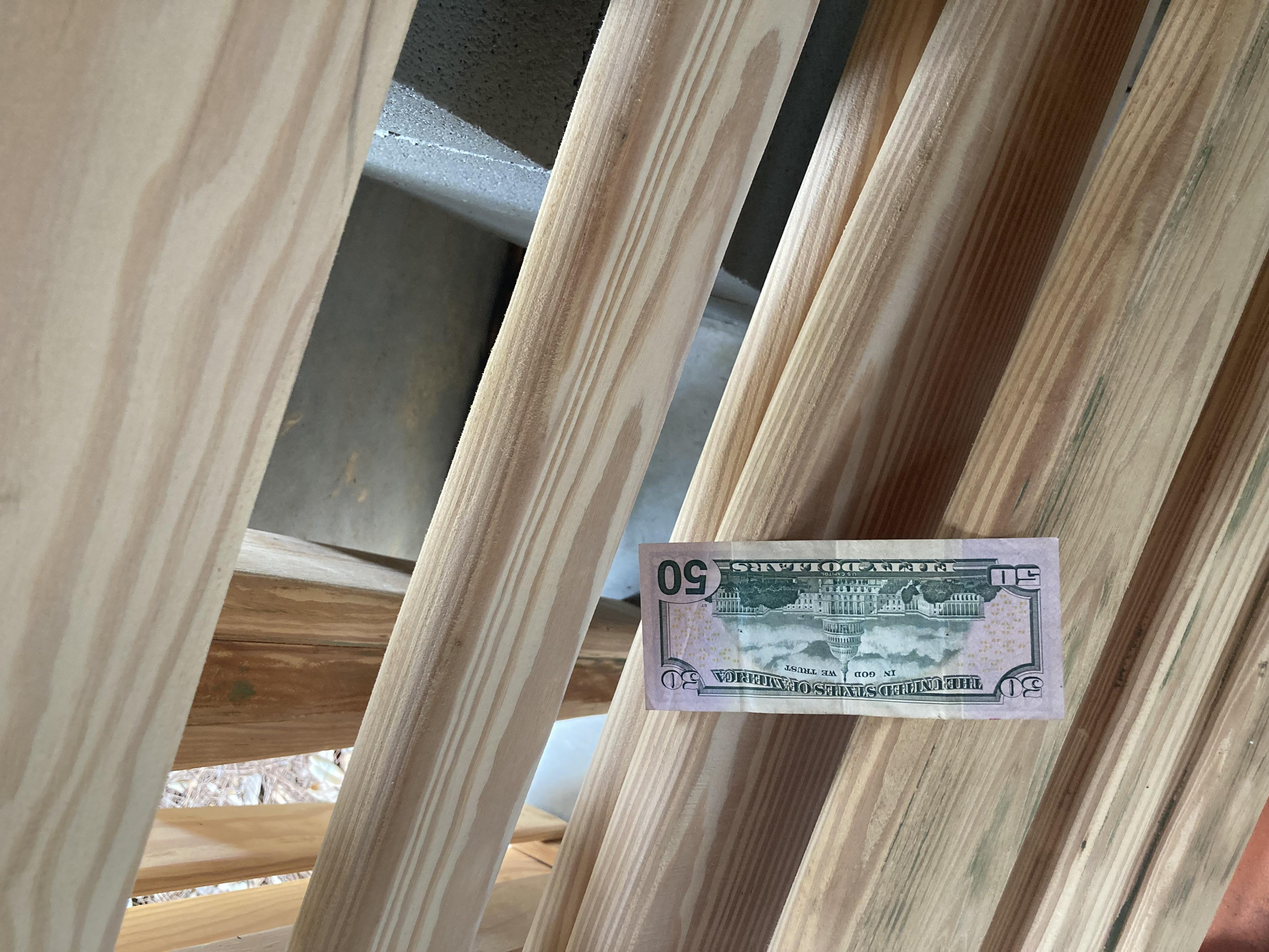fifty-back: (308, 479, 558, 796)
